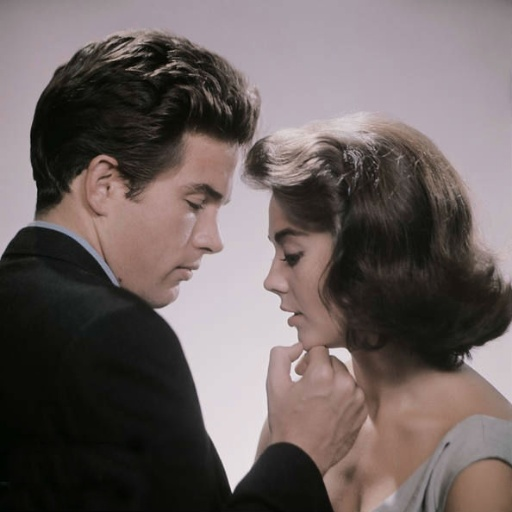hand: (261, 329, 386, 475), (256, 415, 272, 446)
